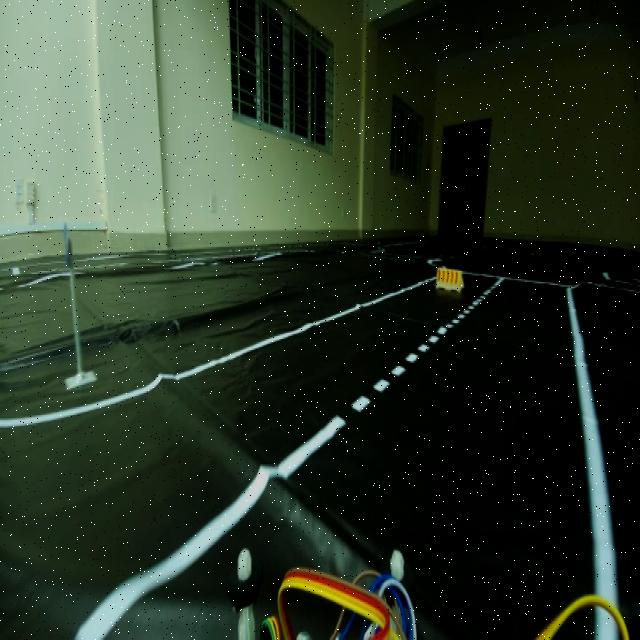roadblock: (431, 259, 465, 305)
